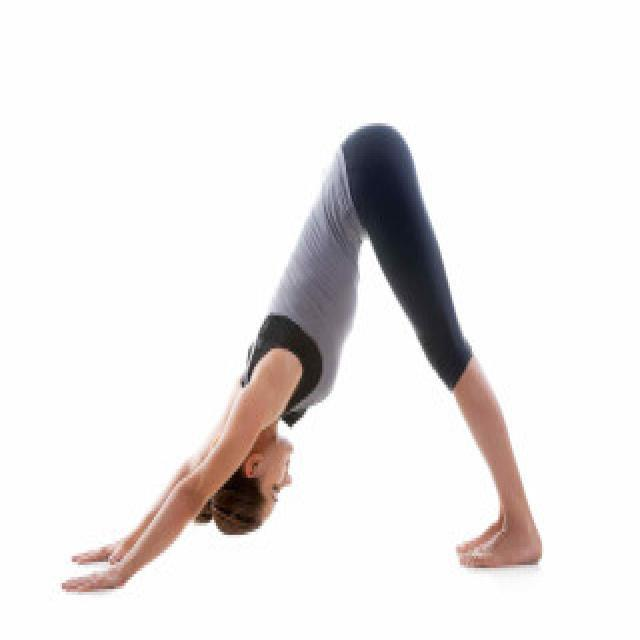yoga-pose downward: (60, 105, 548, 607)
